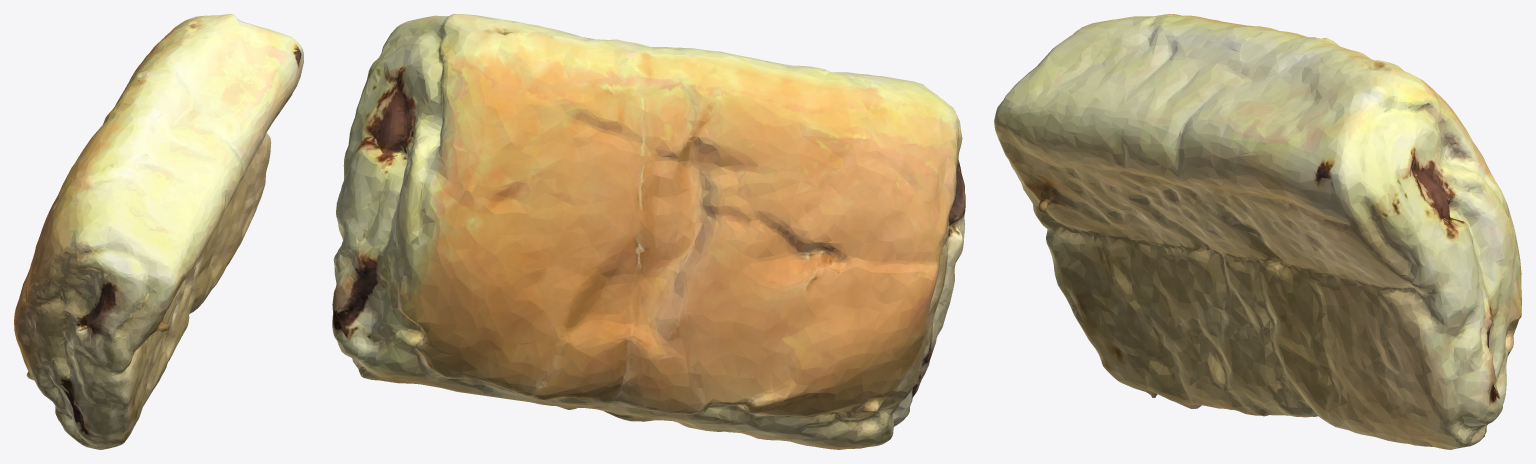
Rendered from Schokobroetchen.fbx.
The picture shows the model from 3 angles, left to right: view 1: azimuth 30°, elevation 25°; view 2: azimuth 150°, elevation 25°; view 3: azimuth 270°, elevation 25°; orthographic projection. The views are drawn at different scales.
Visible parts, largest first — view 1: Schokobroetchen_tex_high; view 2: Schokobroetchen_tex_high; view 3: Schokobroetchen_tex_high.
Part boxes in pixels (bbox=[...]): Schokobroetchen_tex_high: bbox=[14, 14, 303, 449]; Schokobroetchen_tex_high: bbox=[332, 14, 965, 449]; Schokobroetchen_tex_high: bbox=[994, 14, 1521, 449].
Bounding box in the file's own units: 8.99 × 8.06 × 8.72.
